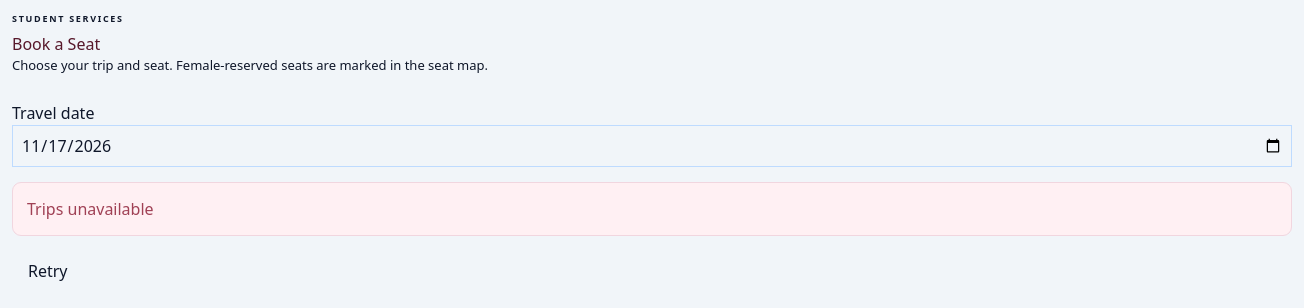
Test: Member 2 student pages › shows loading, errors, retry and empty trip results
This screenshot has width=1304, height=308.
Later steps or results of the test are not shown.
expect the message reads "Trips unavailable": met, box [27,198,154,220]
Click the button "Retry" at (48, 271), box [12,251,84,291]
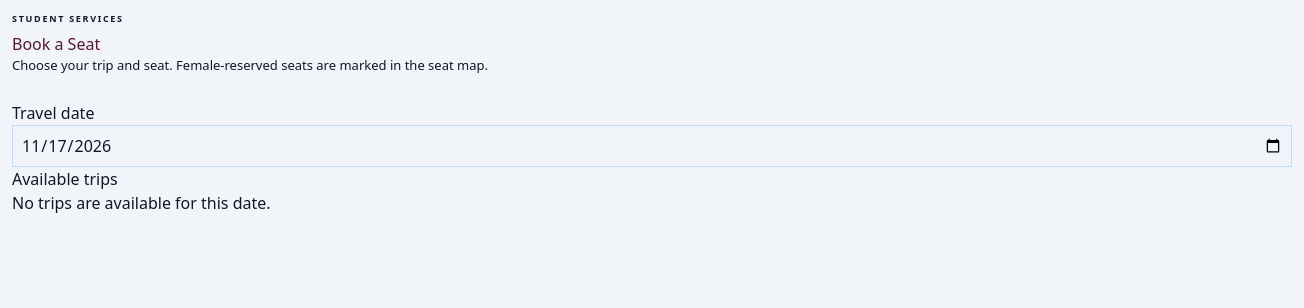
expect the text "No trips are available for this date." is shown: met, box [12,192,271,214]
